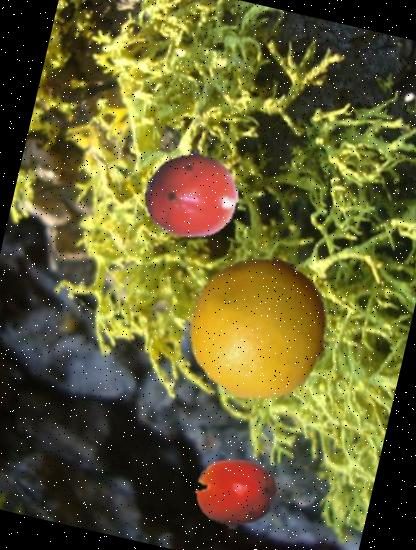Grapefruit: (173, 242, 345, 414)
Kaki: (134, 136, 247, 250), (186, 444, 286, 544)
